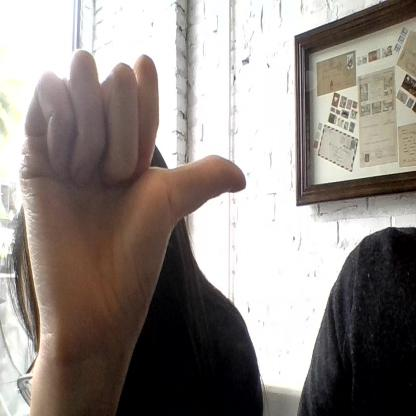left: (18, 49, 247, 340)
